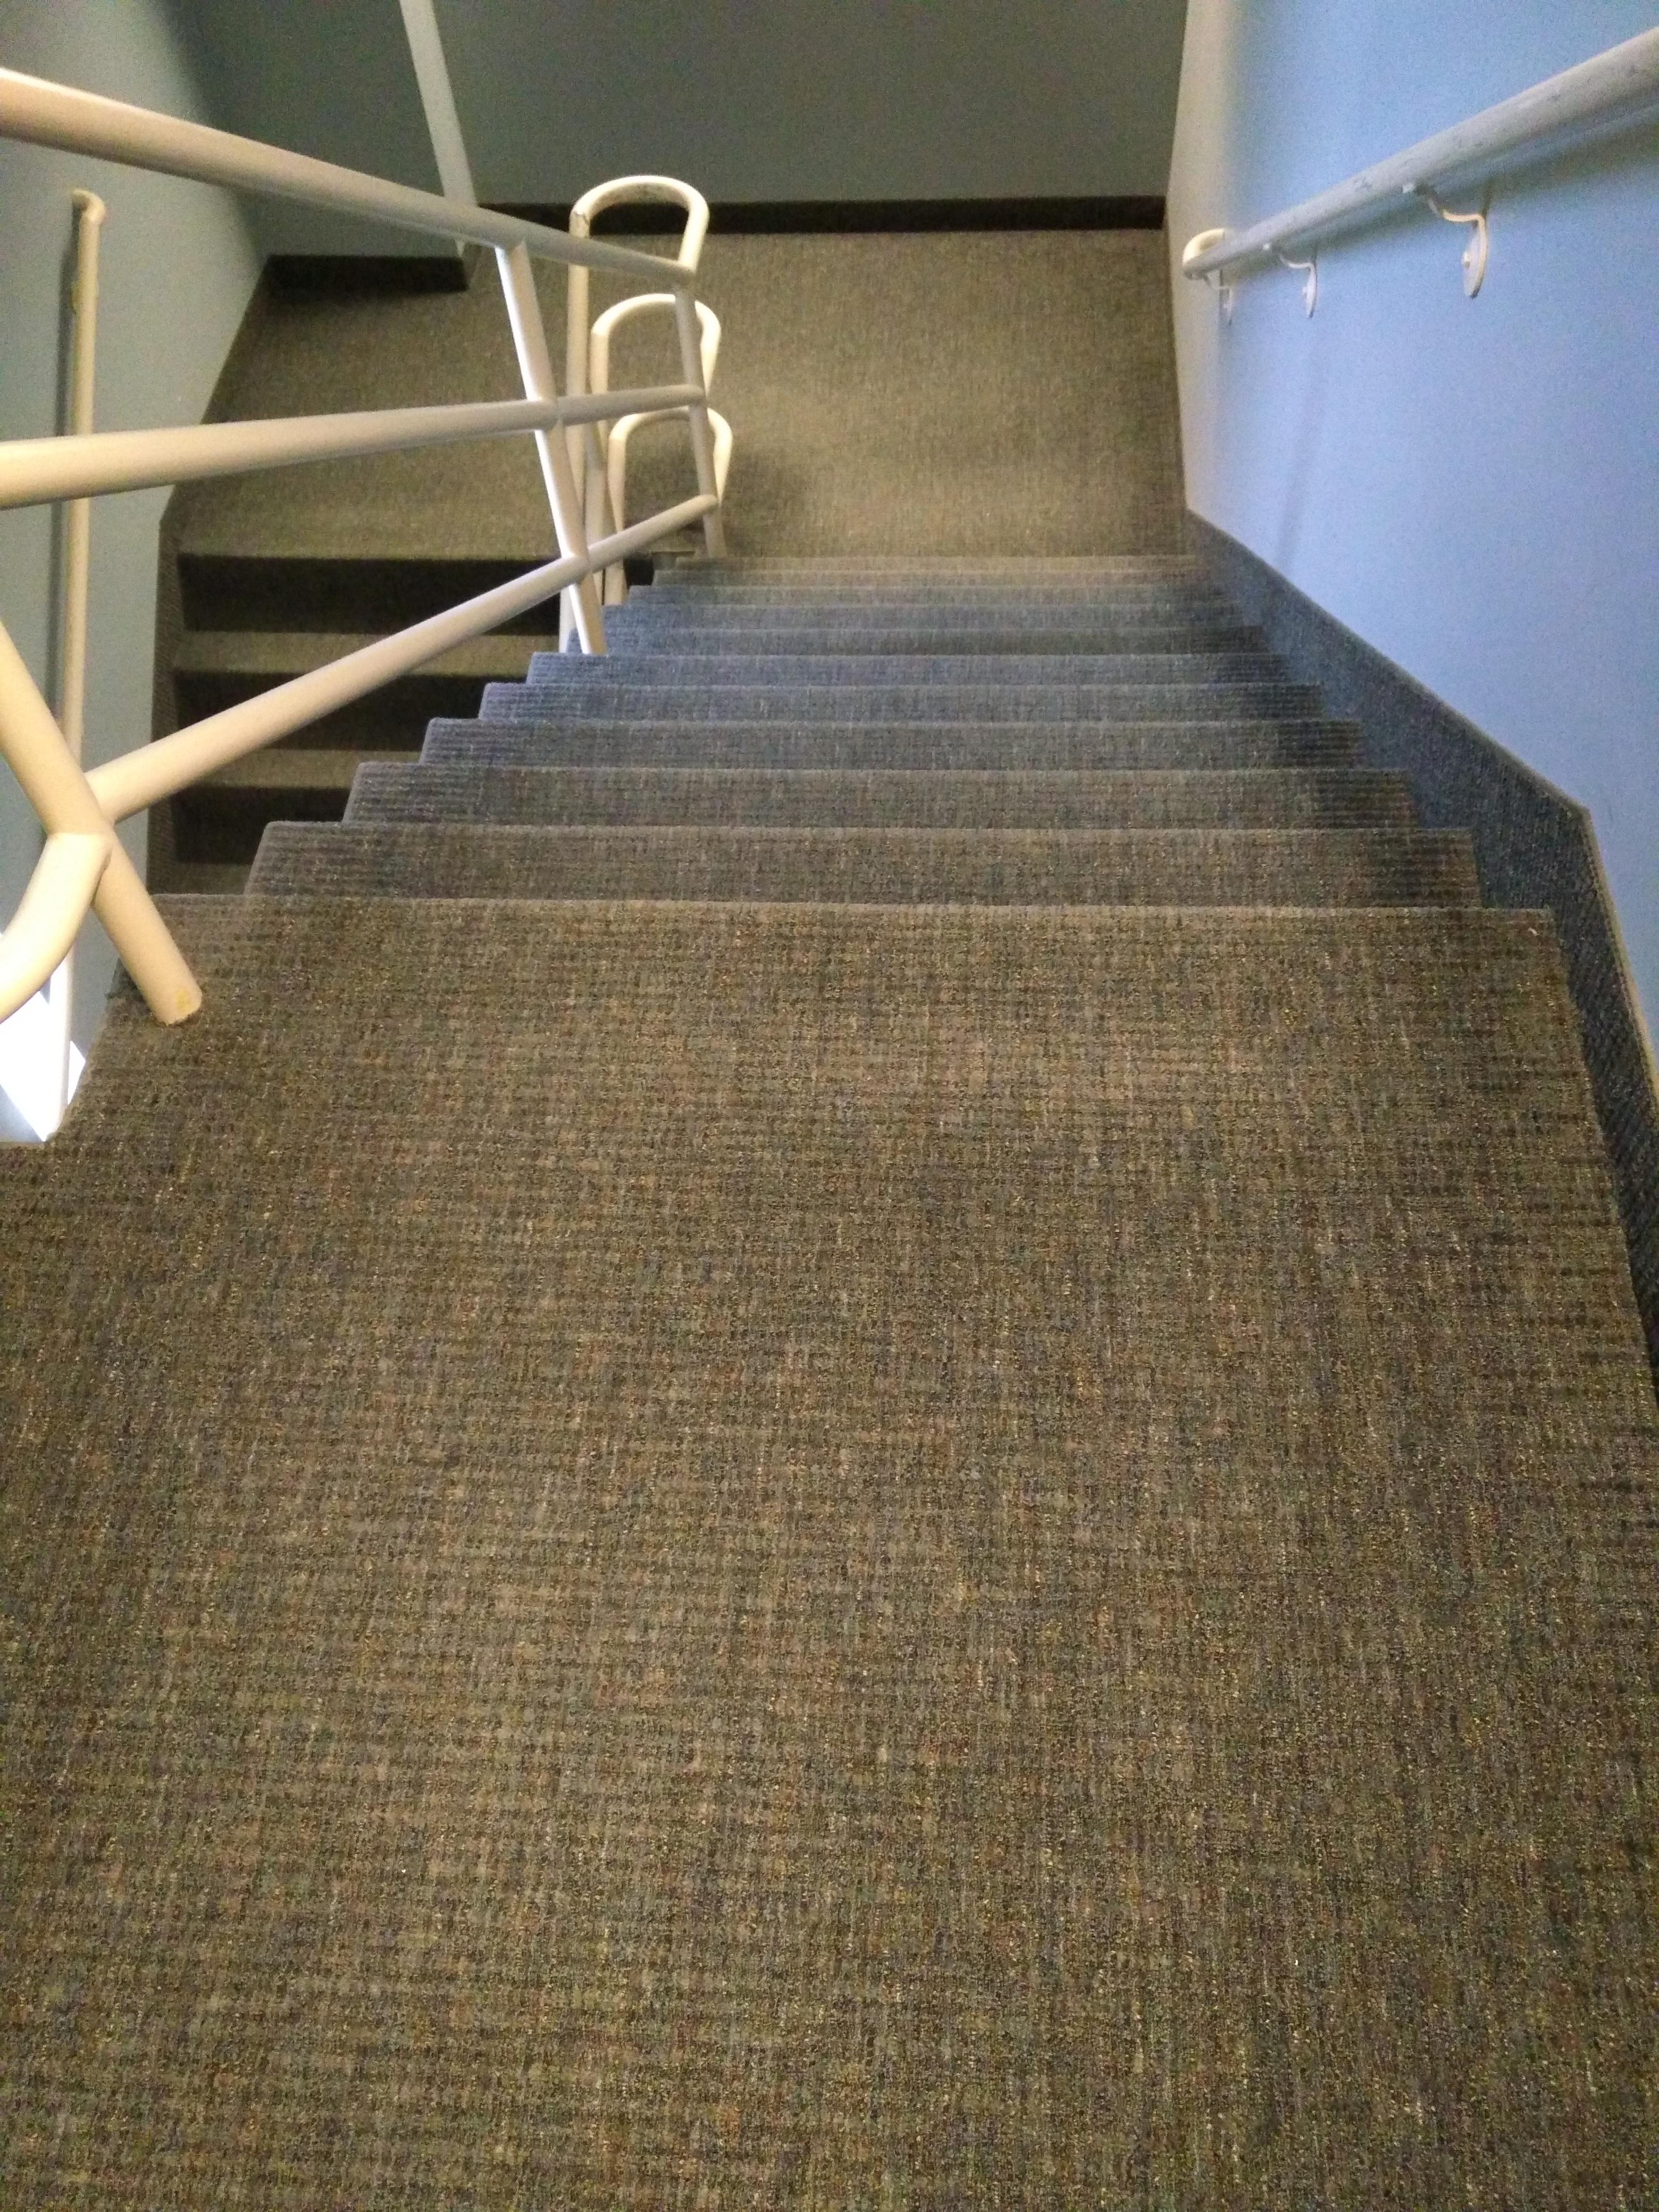stairs_down: (138, 442, 1591, 953)
